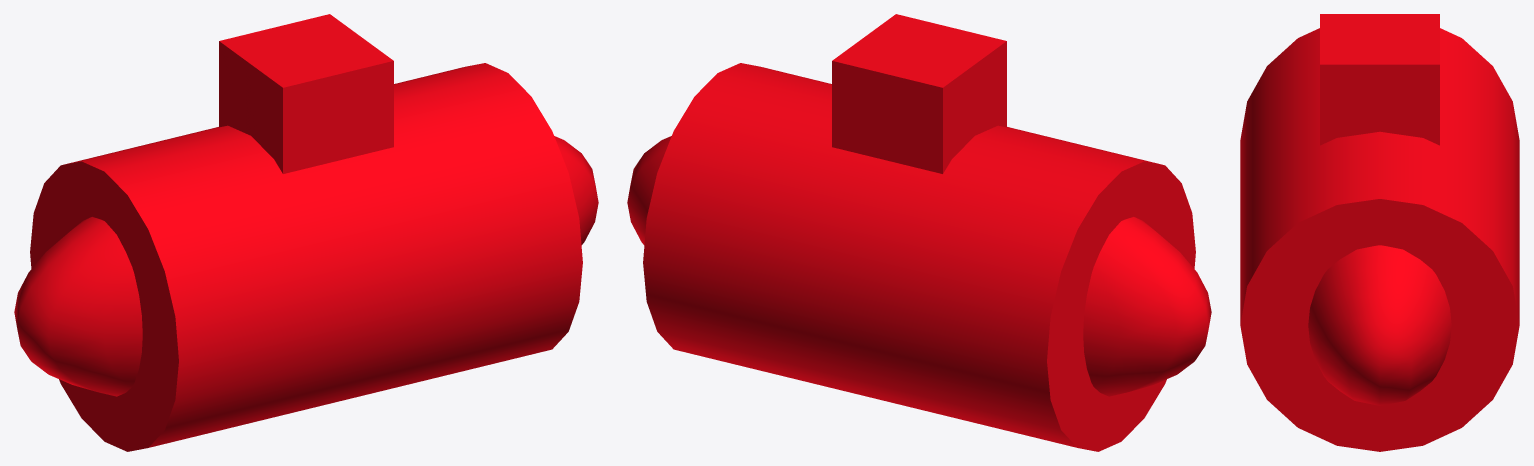
File: dbody.obj
The picture shows the model from 3 angles, left to right: view 1: azimuth 30°, elevation 25°; view 2: azimuth 150°, elevation 25°; view 3: azimuth 270°, elevation 25°; orthographic projection. The views are drawn at different scales.
Parts seen in each view (by area): view 1: pSphere3; view 2: pSphere3; view 3: pSphere3.
Boxes of the visible parts, x1=… form: pSphere3: x1=14, y1=14, x2=598, y2=451; pSphere3: x1=627, y1=14, x2=1211, y2=451; pSphere3: x1=1240, y1=14, x2=1519, y2=451.
Size of the model in its own units: 9.4 by 5.3 by 4.19.
